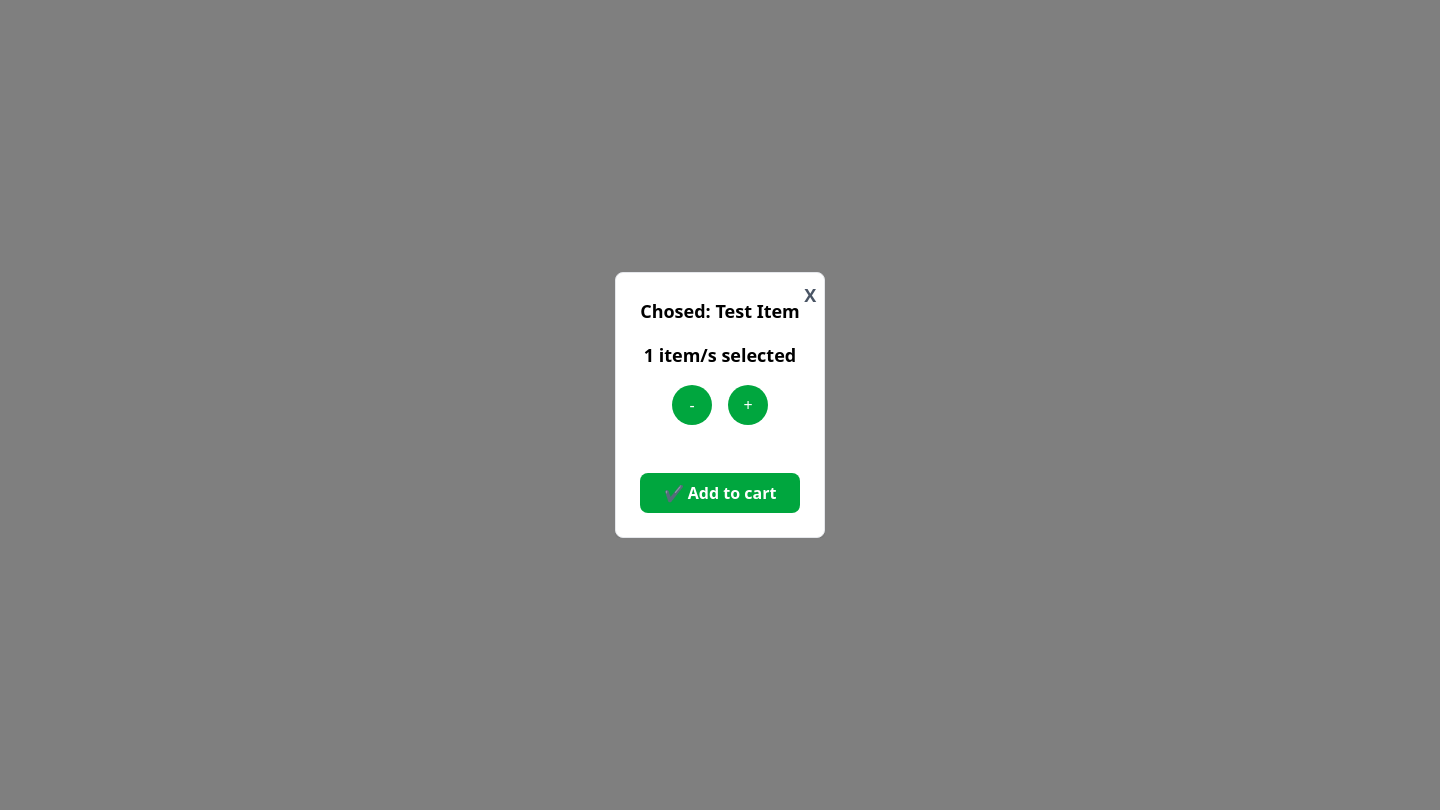
Test case: Clicking `-` decreaces amount by 1
This screenshot has width=1440, height=810.
First need to click +
Click the button "+" at coordinates (748, 405), box top-left (728, 385), bottom-right (768, 425)
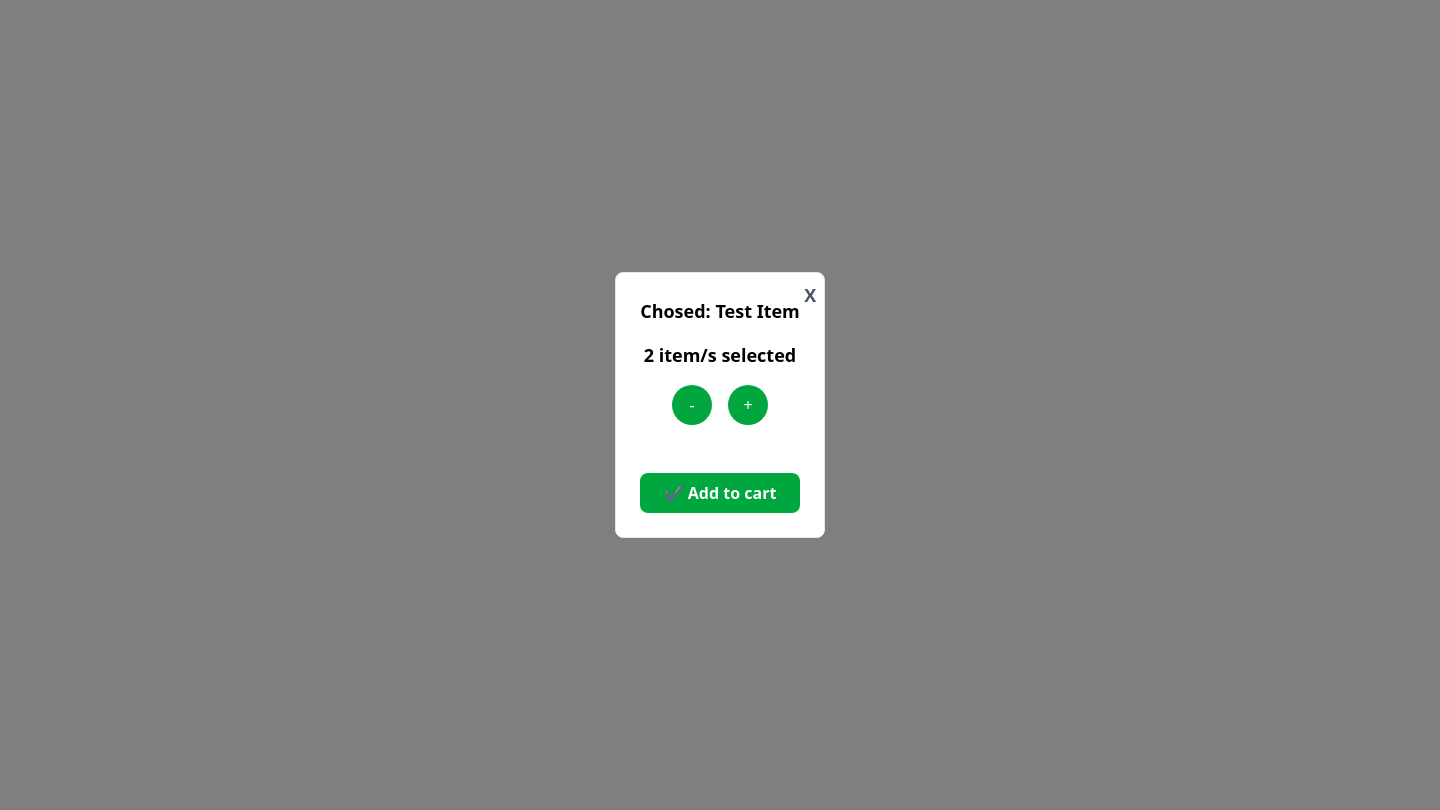
Click the button "-" at coordinates (692, 405), box top-left (672, 385), bottom-right (712, 425)
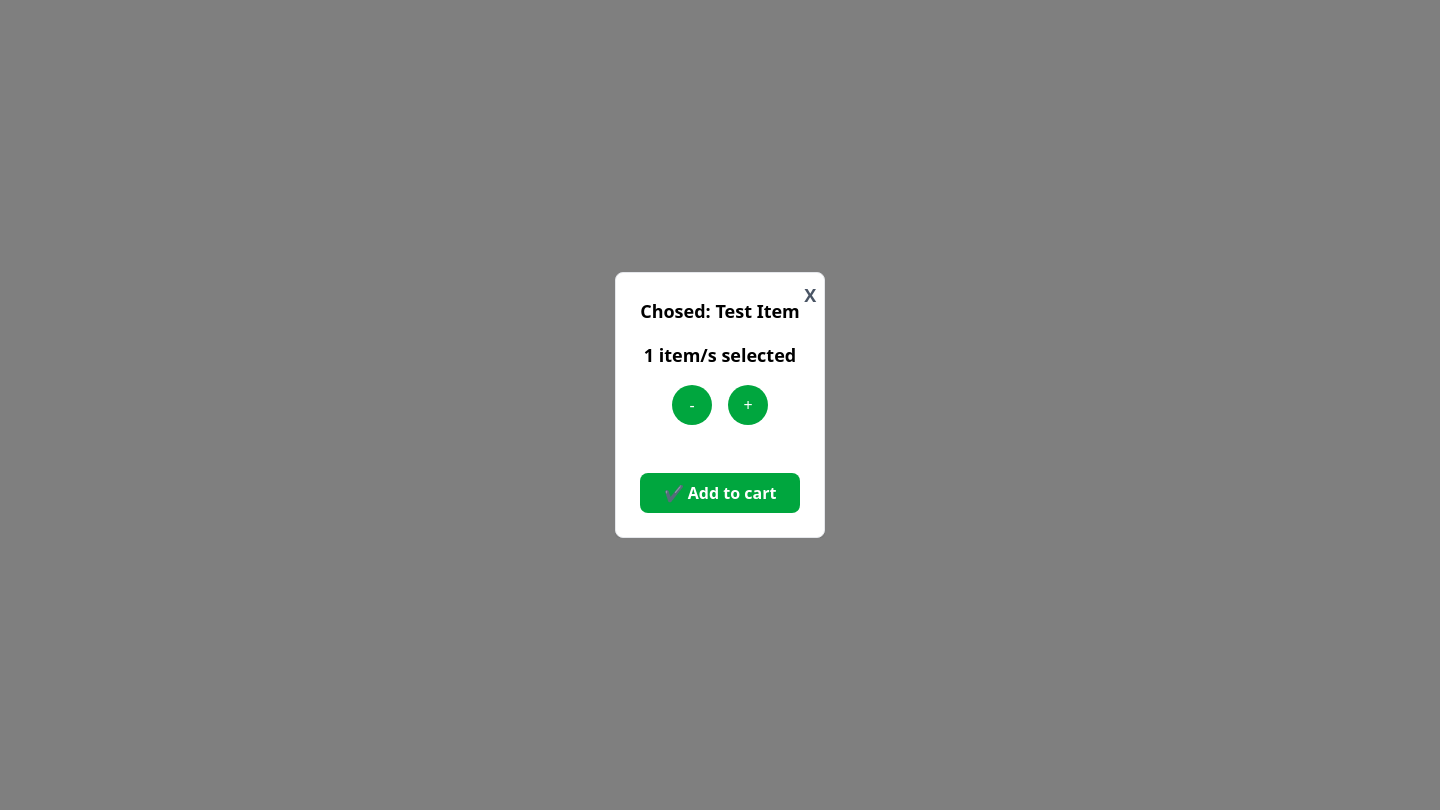
Now the text "1 item/s selected" is shown, box top-left (640, 341), bottom-right (800, 369)
